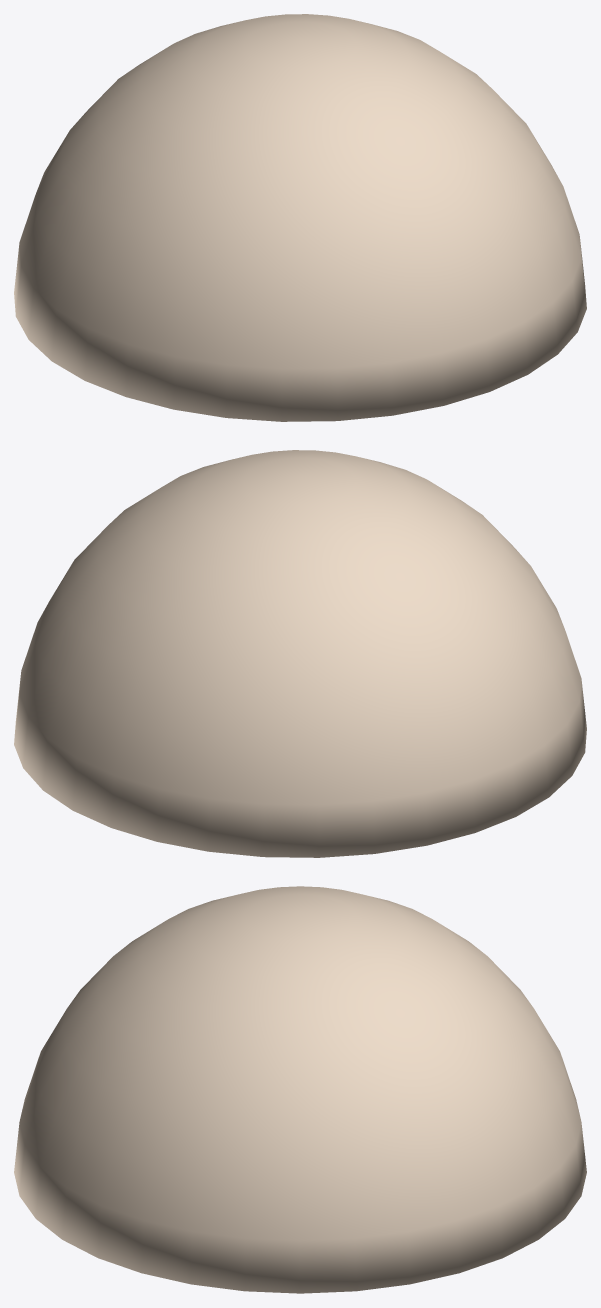
The model's file is bun.fbx.
The picture shows the model from 3 angles, top to bottom: view 1: azimuth 30°, elevation 25°; view 2: azimuth 150°, elevation 25°; view 3: azimuth 270°, elevation 25°; orthographic projection.
Visible parts, largest first — view 1: 구체; view 2: 구체; view 3: 구체.
Part boxes in pixels (x1=…): 구체: x1=14, y1=14, x2=586, y2=421; 구체: x1=14, y1=450, x2=586, y2=857; 구체: x1=14, y1=886, x2=586, y2=1293.
Bounding box in the file's own units: 78.65 × 39.33 × 78.65.
